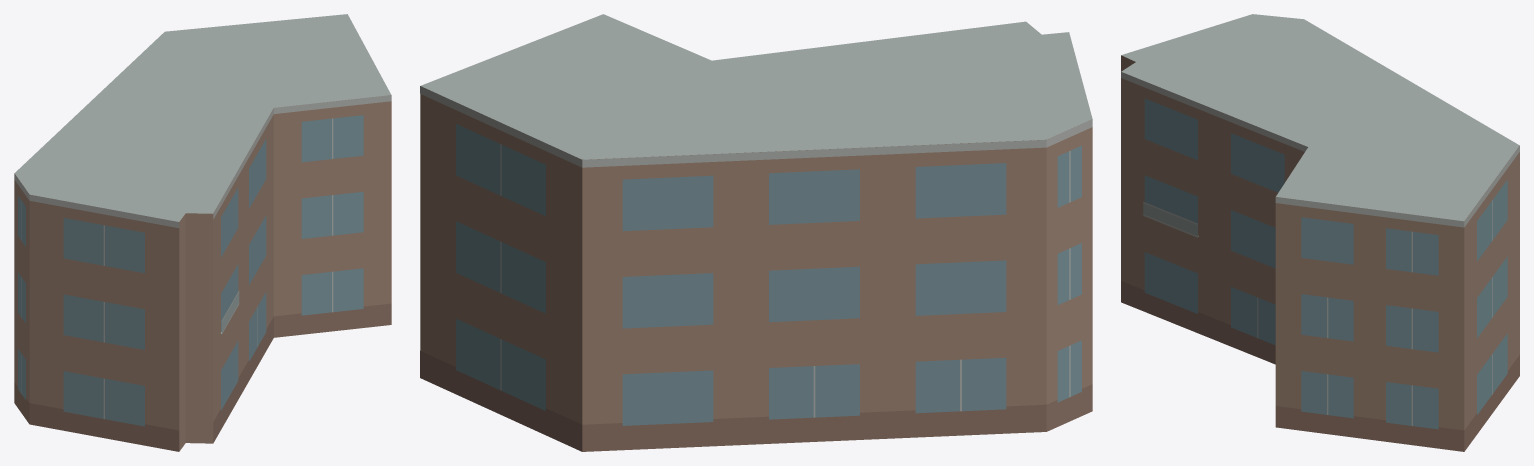
Rendered from survey-upis-32503027.glb.
The picture shows the model from 3 angles, left to right: view 1: azimuth 30°, elevation 25°; view 2: azimuth 150°, elevation 25°; view 3: azimuth 270°, elevation 25°; orthographic projection. The views are drawn at different scales.
Visible parts, largest first — view 1: survey-upis-32503027.tmp; view 2: survey-upis-32503027.tmp; view 3: survey-upis-32503027.tmp.
Part boxes in pixels (bbox=[...]): survey-upis-32503027.tmp: bbox=[14, 14, 391, 451]; survey-upis-32503027.tmp: bbox=[420, 14, 1092, 451]; survey-upis-32503027.tmp: bbox=[1121, 14, 1519, 451].
Bounding box in the file's own units: 17.46 × 9.05 × 14.2.
